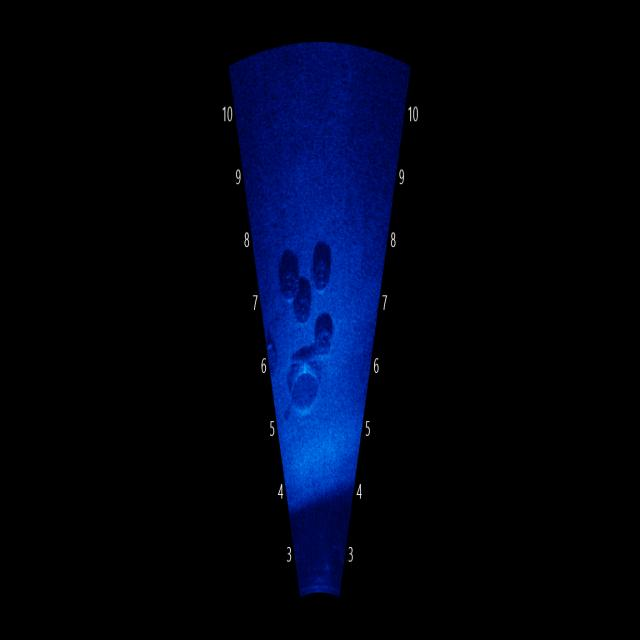circle: (284, 340, 326, 424), (305, 242, 340, 306)
